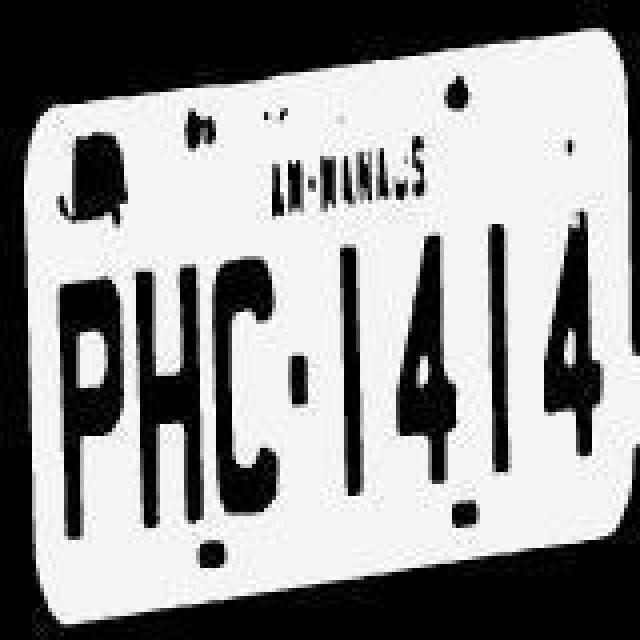1: (472, 206, 520, 482), (328, 242, 376, 510)
4: (538, 194, 614, 470), (394, 222, 470, 482)
C: (208, 258, 288, 526)
H: (126, 258, 210, 526)
P: (50, 268, 126, 548)
